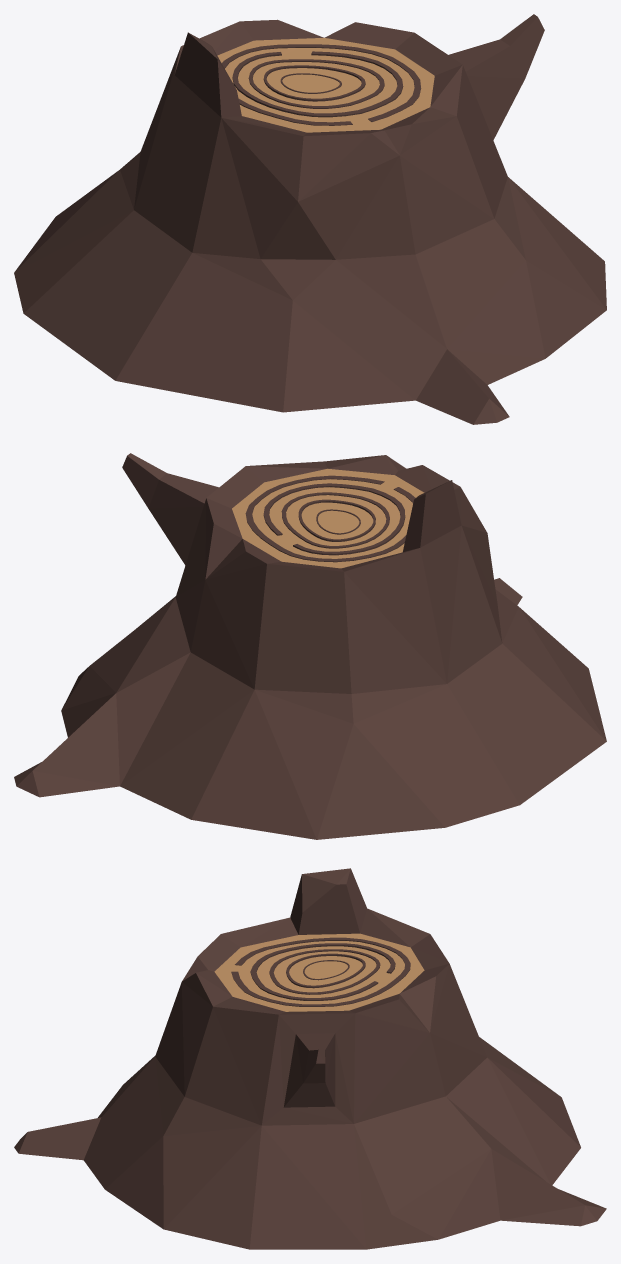
The model's file is Stump 1.fbx.
3 renders of one model, top to bottom at view 1: azimuth 30°, elevation 25°; view 2: azimuth 150°, elevation 25°; view 3: azimuth 270°, elevation 25°, orthographic. The views are drawn at different scales.
Visible parts, largest first — view 1: Stump 1; view 2: Stump 1; view 3: Stump 1.
Boxes of the visible parts, x1,y1,x2,y2 form: Stump 1: (14,14,606,424); Stump 1: (14,453,606,839); Stump 1: (14,868,606,1249).
Bounding box in the file's own units: 1.89 × 1.01 × 2.33.
